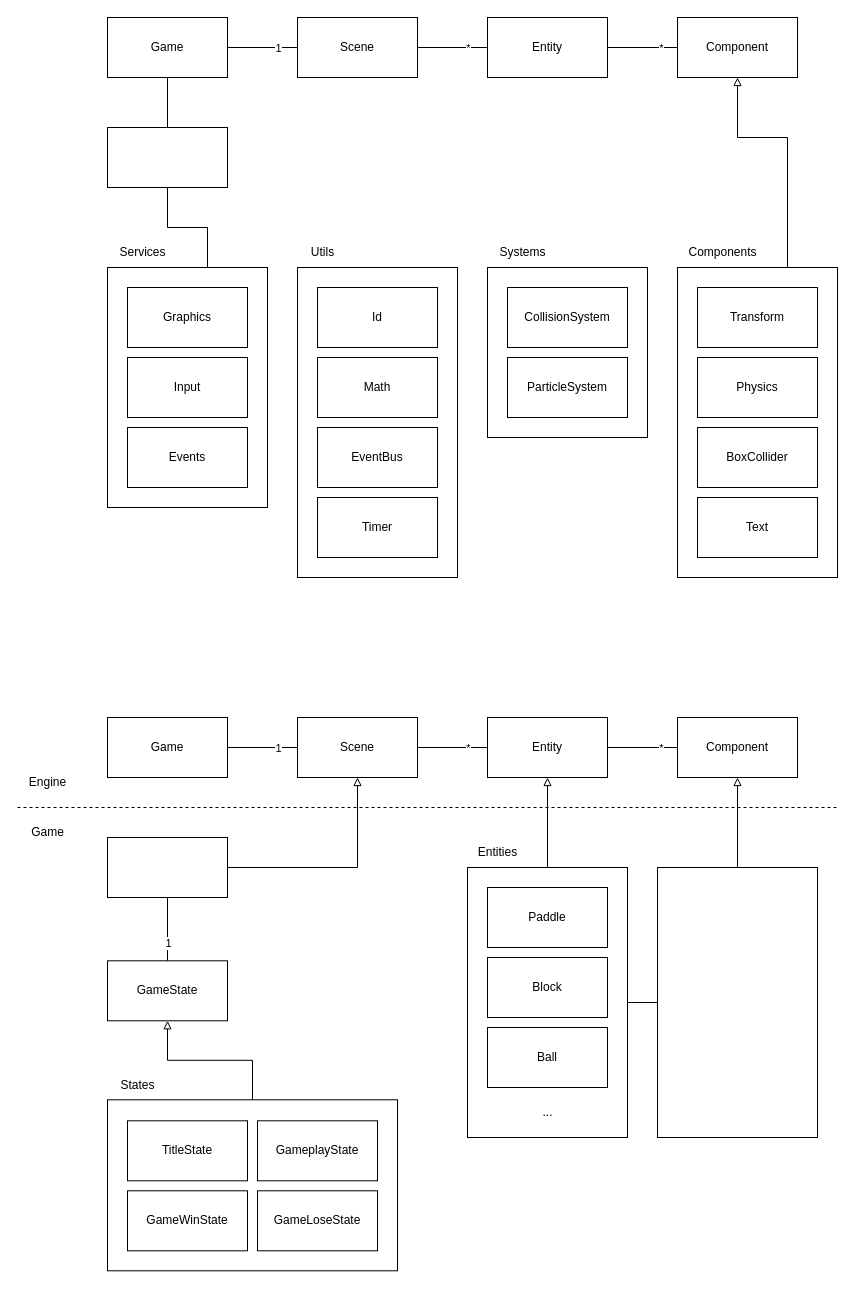
Image size: 856x1289. Some labels were removed from this diagram. Each missing label, with the box of its shape:
+ their components: (656, 866, 818, 1138)
MainScene: (106, 836, 228, 898)
ServiceLocator: (106, 126, 228, 188)
